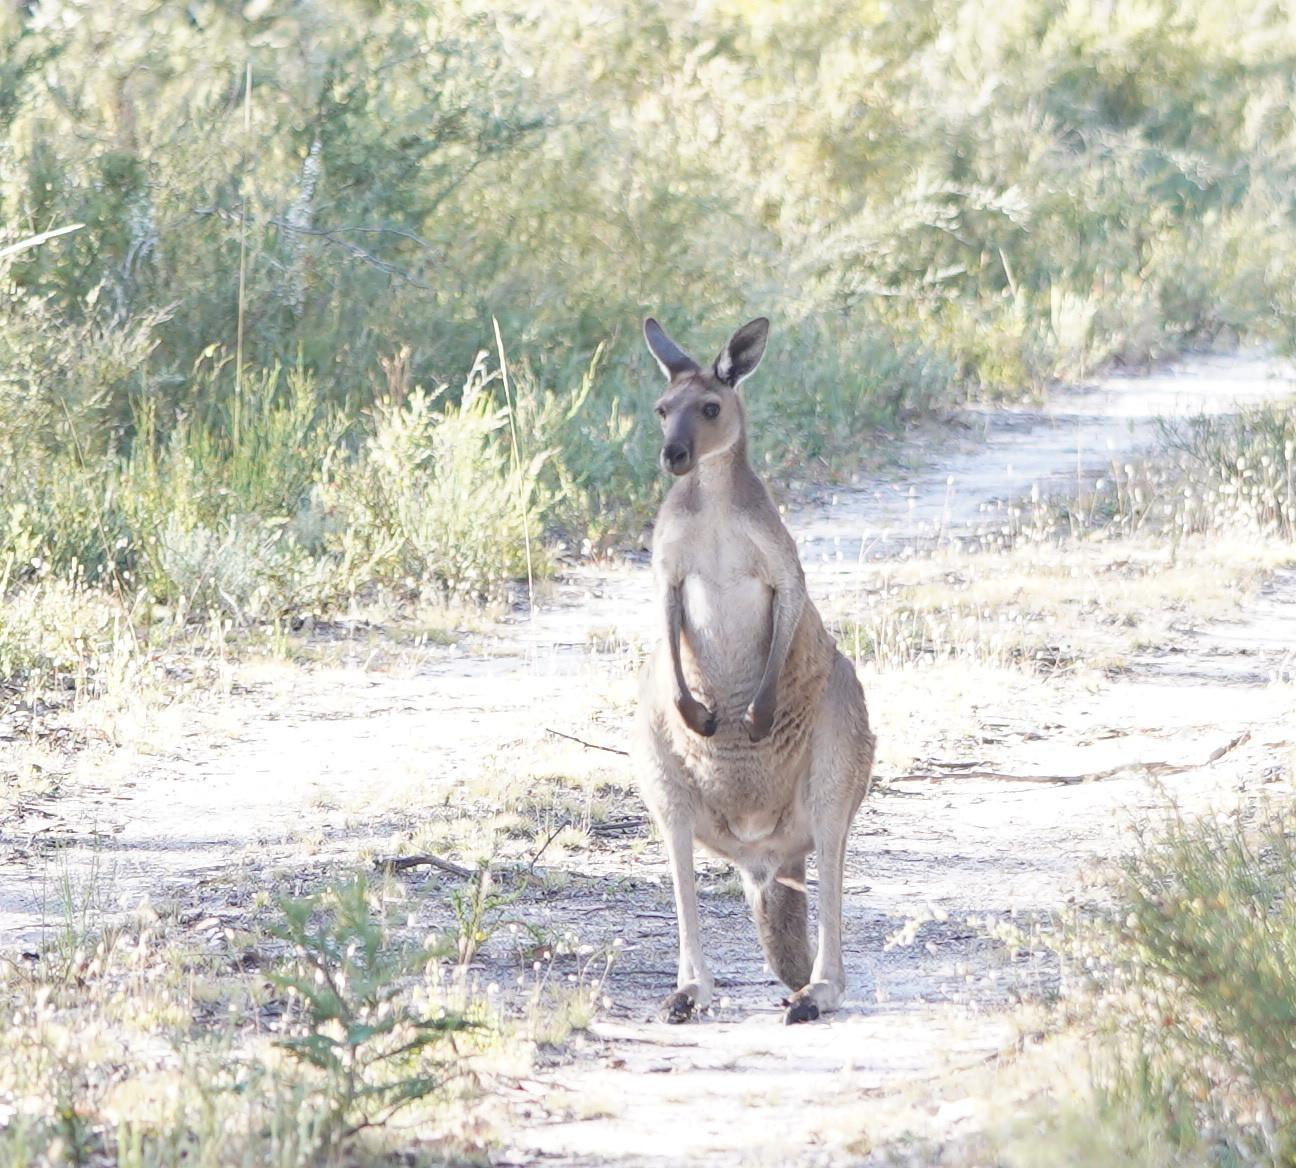Western grey kangaroo: (627, 315, 878, 1028)
